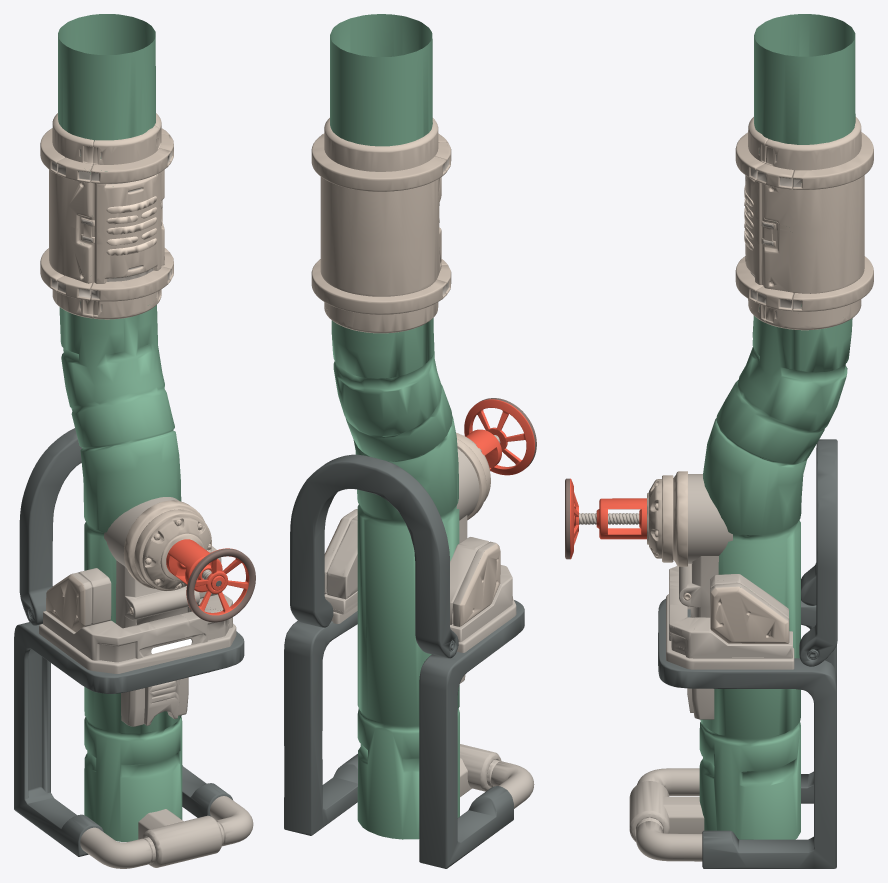
The model's file is doom_pipe.glb.
3 views of the same model, side by side, from view 1: azimuth 30°, elevation 25°; view 2: azimuth 150°, elevation 25°; view 3: azimuth 270°, elevation 25° (orthographic). The views are drawn at different scales.
Visible parts, largest first — view 1: pipeBody, valveWheel; view 2: pipeBody, valveWheel; view 3: pipeBody, valveWheel.
Boxes of the visible parts, <box> form: pipeBody: <box>14,14,253,868</box>; valveWheel: <box>186,548,255,622</box>; pipeBody: <box>284,14,534,868</box>; valveWheel: <box>464,398,536,475</box>; pipeBody: <box>579,14,873,868</box>; valveWheel: <box>565,478,578,559</box>.
Size of the model in its own units: 6.35 by 29.88 by 10.5.
